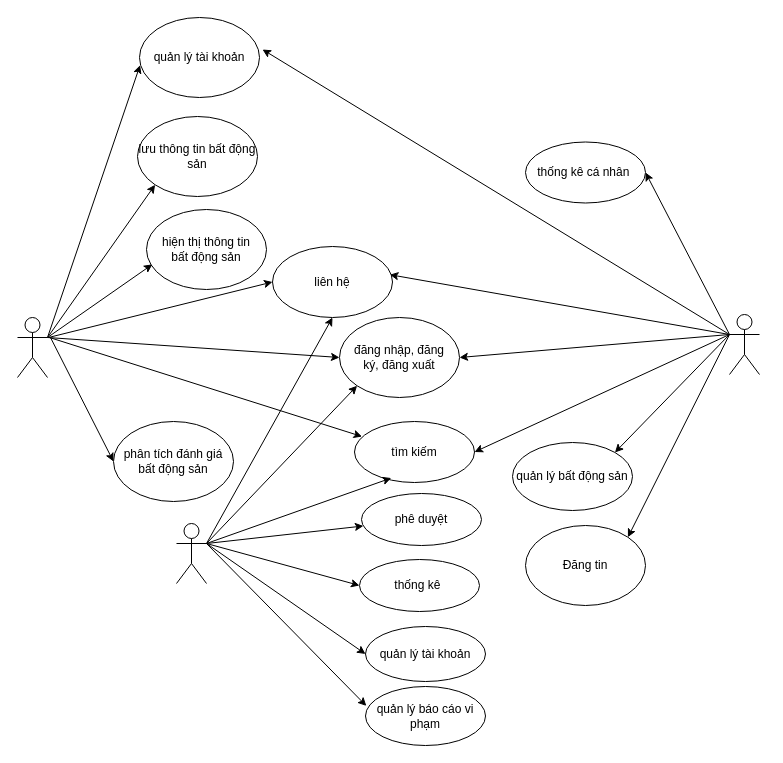
This 783x763 diagram has some shape labels left out. The centre of each missing label's shape, as x and y in pixels:
"admin" goes at point 191,553.
"môi giới" goes at point 744,344.
"user" goes at point 32,347.
